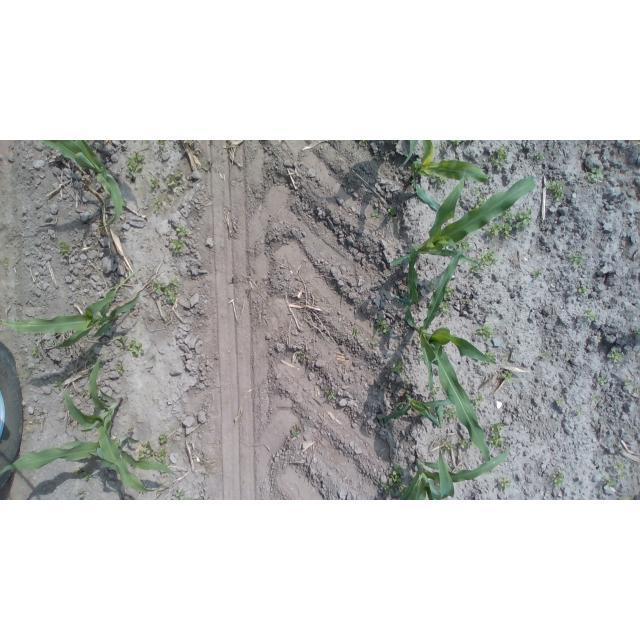Maize: (406, 247, 501, 481), (379, 173, 546, 291), (1, 264, 162, 362), (1, 431, 195, 500), (64, 354, 156, 499), (40, 141, 131, 236), (384, 441, 522, 500), (384, 142, 496, 212), (370, 390, 496, 426)
Weeds: (153, 277, 180, 305), (137, 442, 170, 463), (125, 151, 148, 179), (381, 477, 414, 496), (487, 422, 507, 450), (543, 178, 567, 201), (485, 147, 509, 168), (371, 317, 396, 337), (485, 222, 515, 238), (479, 247, 499, 270), (164, 170, 184, 191), (497, 206, 519, 225), (74, 468, 98, 484), (126, 339, 144, 360), (386, 358, 408, 375), (584, 165, 603, 184), (551, 471, 570, 490), (175, 222, 193, 242), (473, 324, 494, 341), (166, 489, 198, 500), (517, 210, 535, 229), (473, 190, 488, 211), (568, 249, 585, 267), (608, 347, 625, 365), (61, 239, 76, 259), (498, 366, 515, 383), (50, 376, 70, 390), (383, 205, 398, 223), (152, 198, 168, 214), (441, 284, 457, 300), (169, 239, 185, 254), (584, 307, 600, 322), (575, 282, 588, 300), (472, 261, 485, 278), (482, 349, 499, 362), (444, 408, 458, 423), (438, 303, 454, 316), (533, 150, 545, 167), (393, 465, 405, 482), (29, 348, 44, 361), (75, 489, 92, 500), (116, 335, 129, 349), (150, 176, 162, 191), (499, 477, 511, 492), (473, 396, 486, 409), (115, 363, 128, 376), (326, 389, 338, 403), (402, 378, 415, 390), (603, 477, 618, 487), (155, 140, 170, 150), (615, 460, 626, 473), (574, 406, 587, 417), (460, 438, 471, 451), (291, 427, 302, 440), (530, 268, 544, 278), (158, 435, 170, 446), (351, 327, 361, 340), (443, 441, 453, 454), (297, 349, 306, 363), (367, 208, 380, 217), (597, 375, 608, 385), (554, 397, 565, 407), (366, 338, 375, 349), (632, 326, 640, 338), (624, 379, 636, 387), (564, 356, 574, 364), (591, 395, 601, 403), (595, 335, 605, 342), (539, 353, 549, 360), (546, 277, 554, 284), (80, 390, 87, 397), (619, 473, 625, 481), (129, 428, 138, 433), (623, 496, 634, 500)
